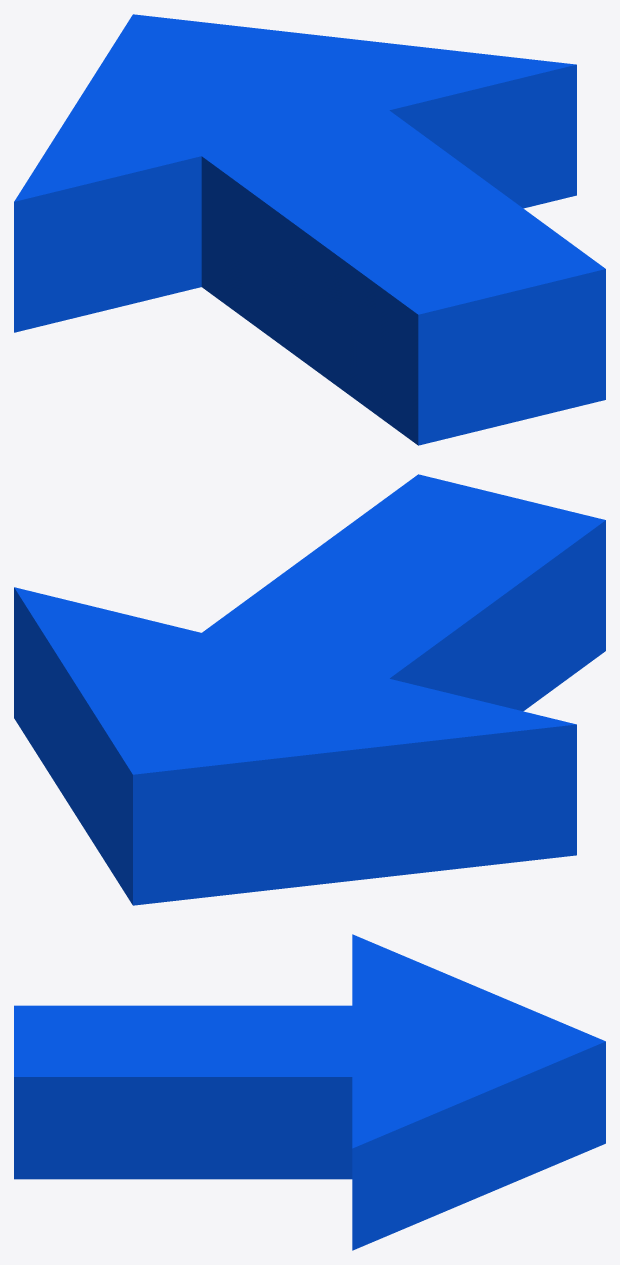
The model's file is ExpArrow.FBX.
3 renders of one model, top to bottom at view 1: azimuth 30°, elevation 25°; view 2: azimuth 150°, elevation 25°; view 3: azimuth 270°, elevation 25°, orthographic. The views are drawn at different scales.
Visible parts, largest first — view 1: Saliente-Extruir1; view 2: Saliente-Extruir1; view 3: Saliente-Extruir1.
Part boxes in pixels (x1,y1,x2,y2): Saliente-Extruir1: (14, 14, 605, 445); Saliente-Extruir1: (14, 474, 605, 905); Saliente-Extruir1: (14, 934, 605, 1250).
Bounding box in the file's own units: 3.54 × 0.7874 × 4.13.
